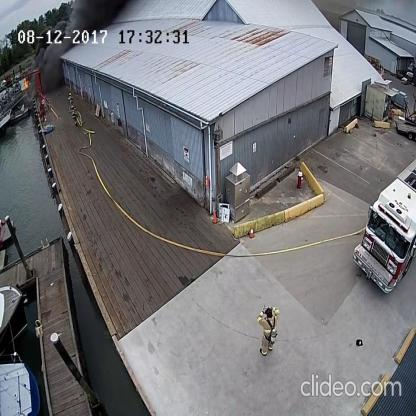fire: (22, 76, 34, 94)
